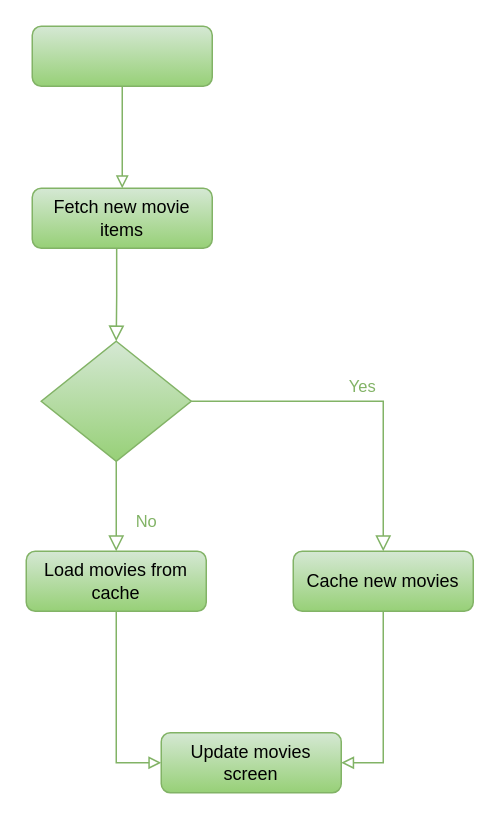
This 500x819 diagram has some shape labels left out. Here are the shapes that lost their labels. From the top down, the centre of each, then its label:
At (x=121, y=55): "Show movies screen".
At (x=115, y=400): "Success?".
